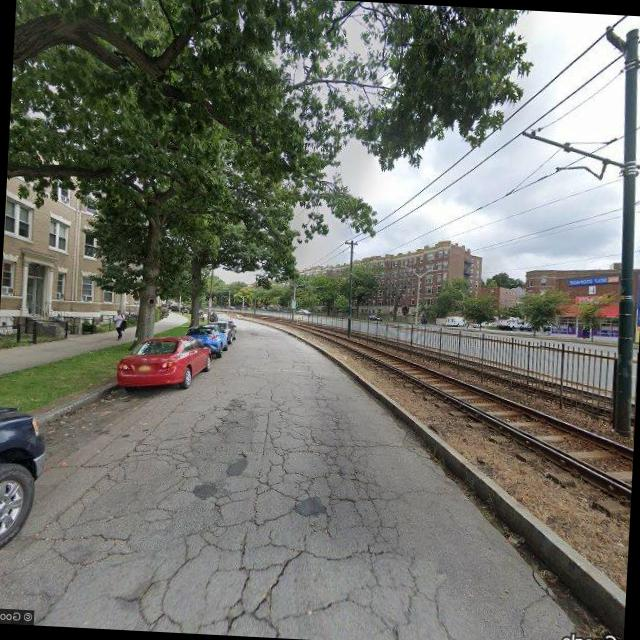crack: (27, 376, 445, 640)
